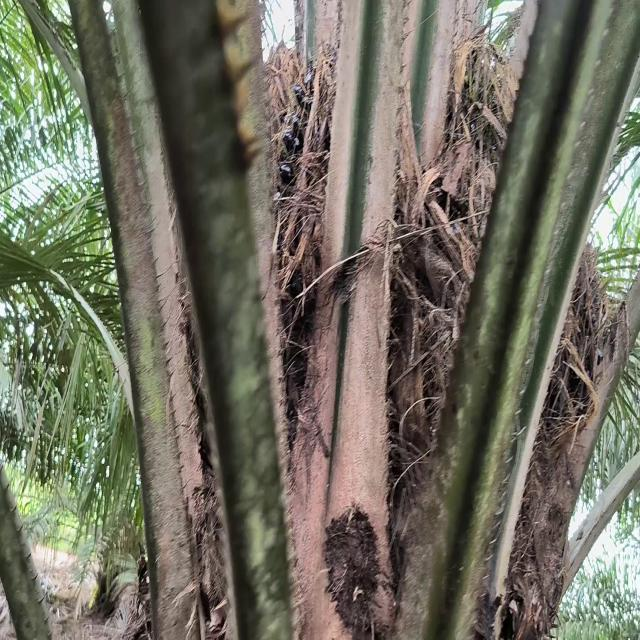palm-oil: (274, 49, 331, 254)
